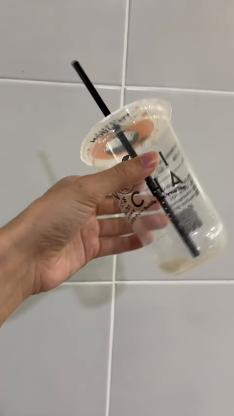Plastic Cup: (79, 95, 230, 277)
